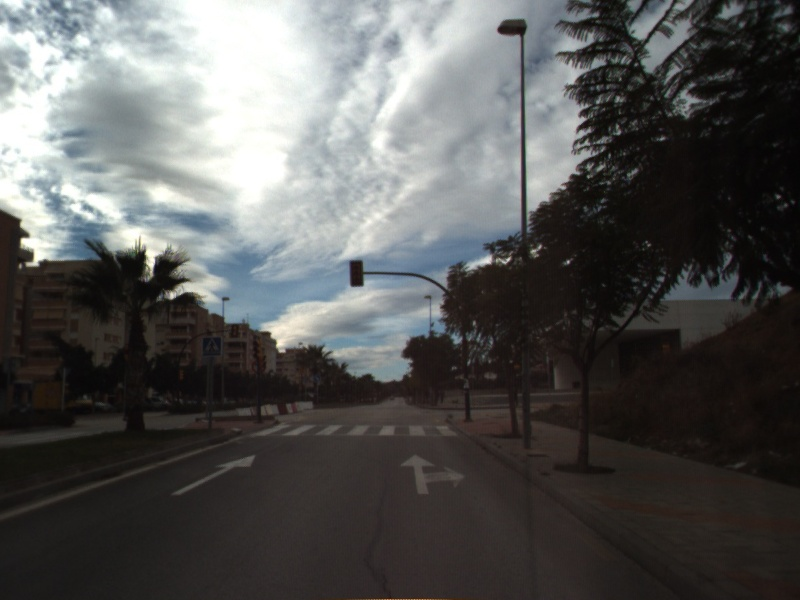STRAIGHT: (169, 453, 258, 497)
STRAIGHT_RIGHT: (398, 452, 467, 496)
